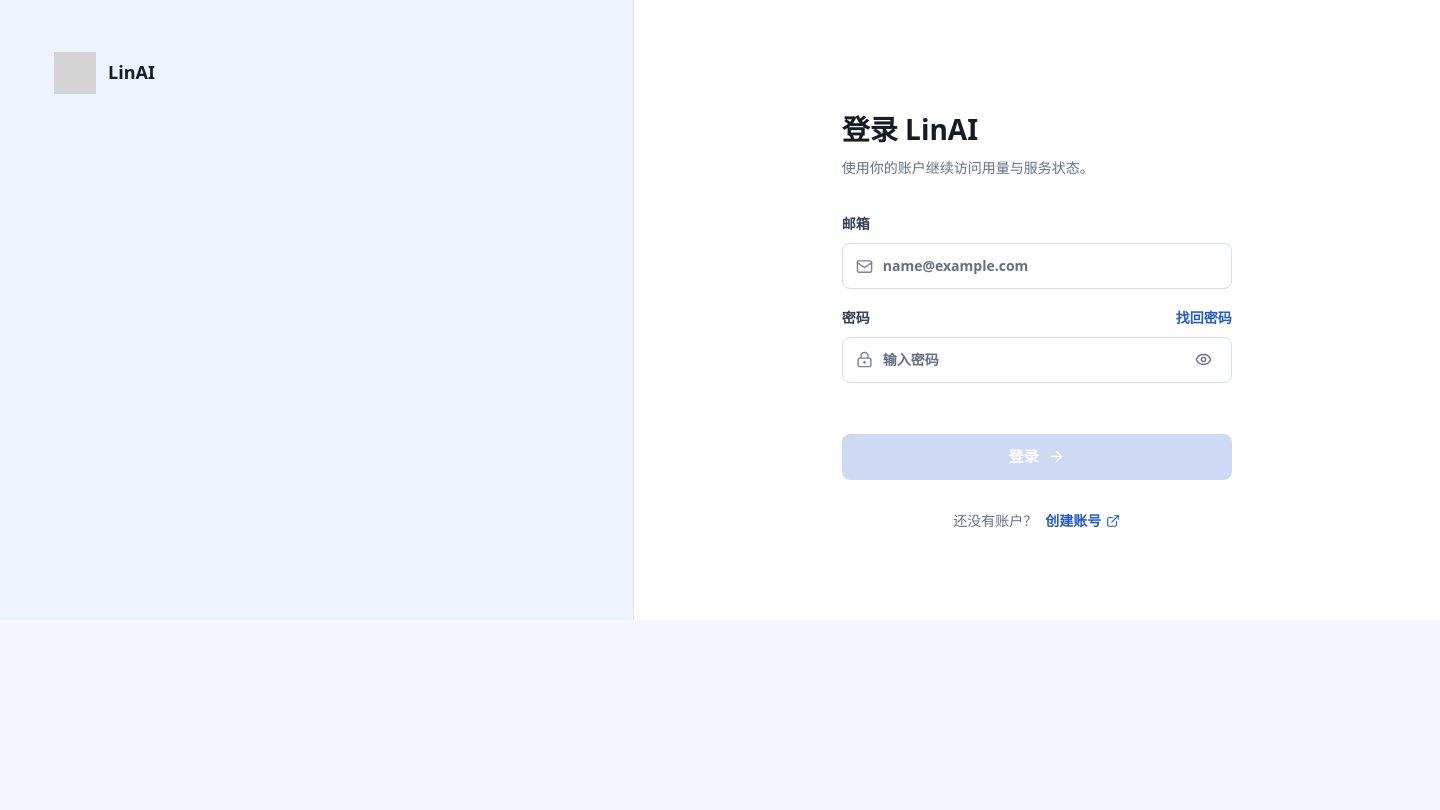
LoginView › keeps login disabled until both credentials are present
Check: the button with test id "login-submit" is disabled, box 842,434 -> 1232,480
Type "user@example.com" into the field with test id "email-input" at (1050, 266), box 883,255 -> 1218,277
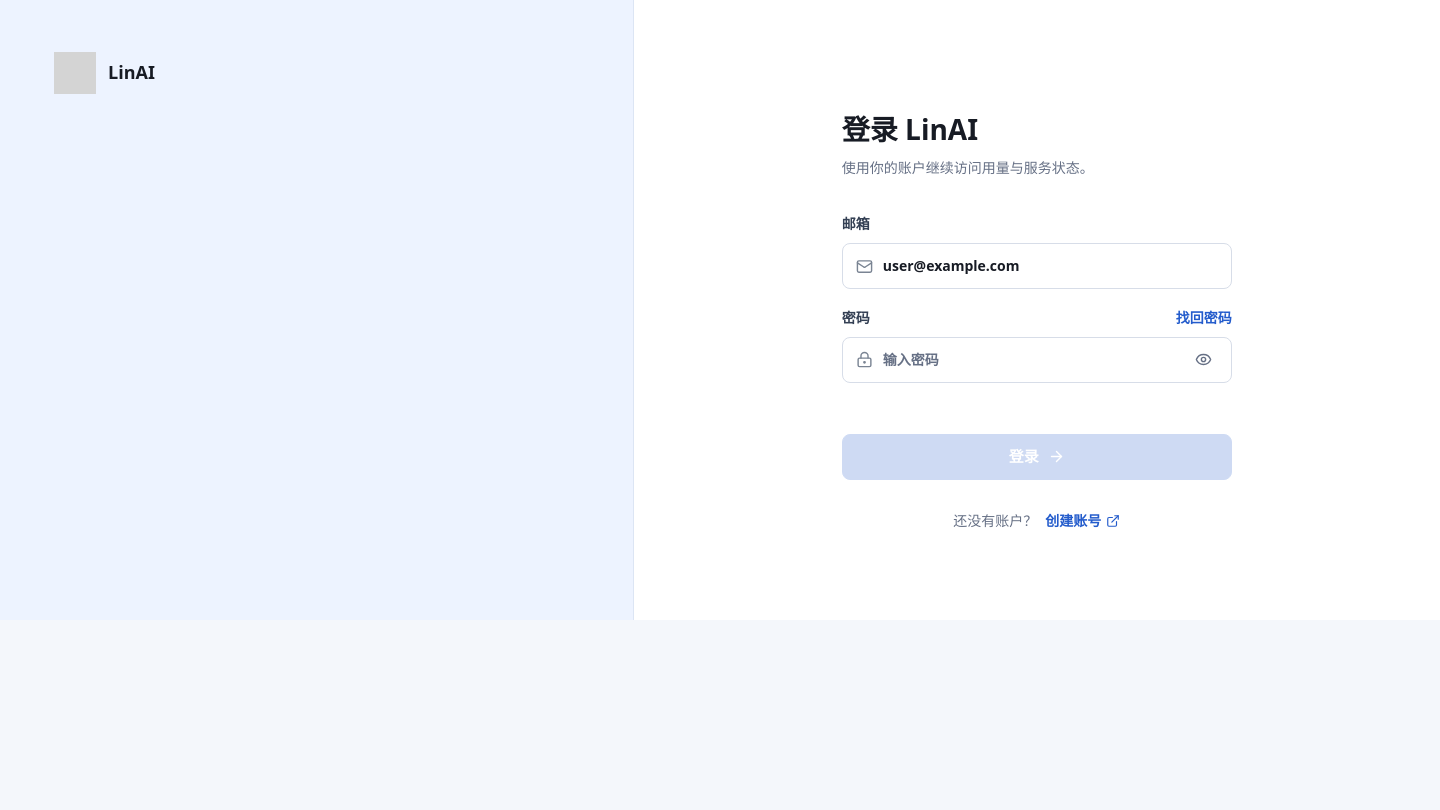
Check: the button with test id "login-submit" is disabled, box 842,434 -> 1232,480
Type "secret" into the password field with test id "password-input" at (1031, 360), box 883,349 -> 1180,370
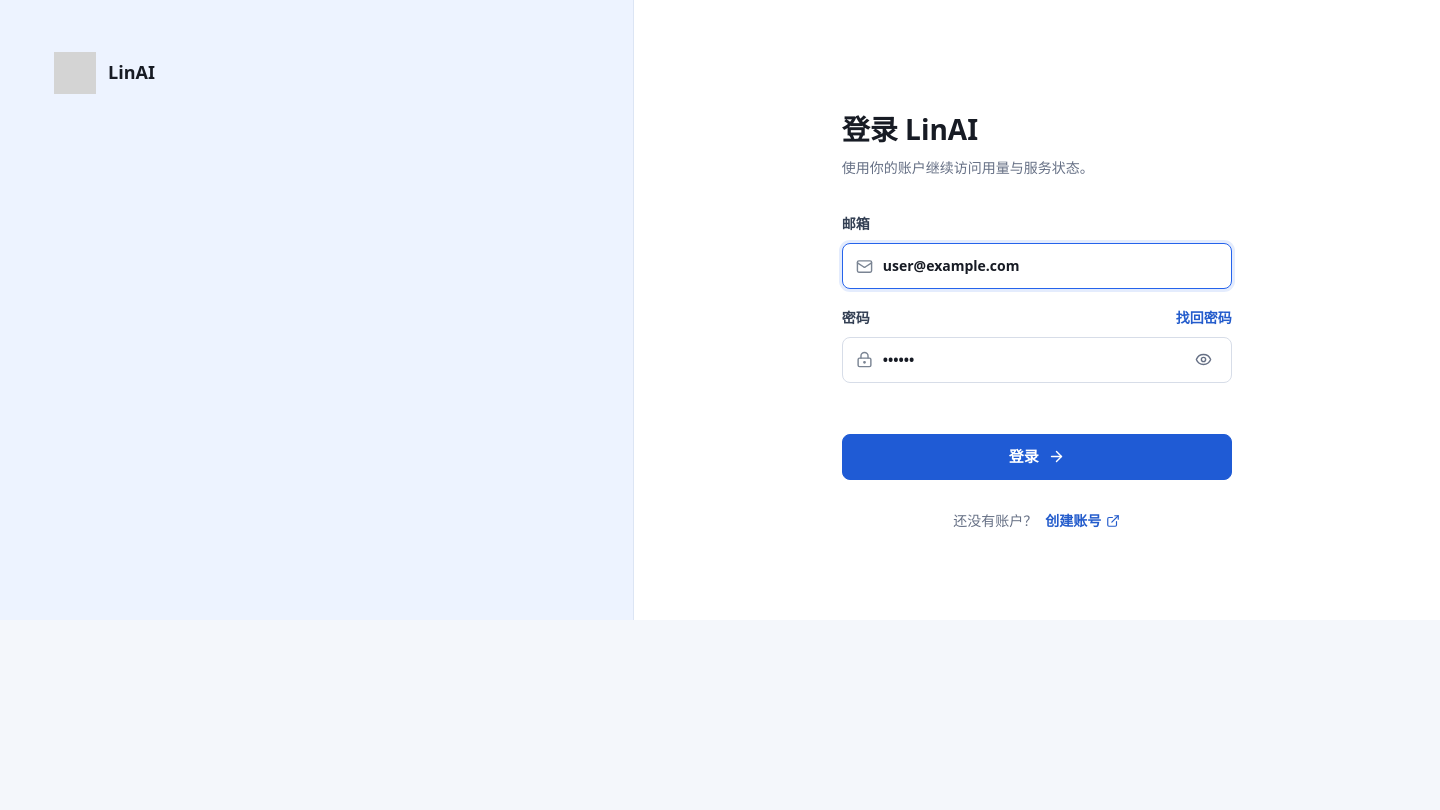
Check: the button with test id "login-submit" is enabled, box 842,434 -> 1232,480
